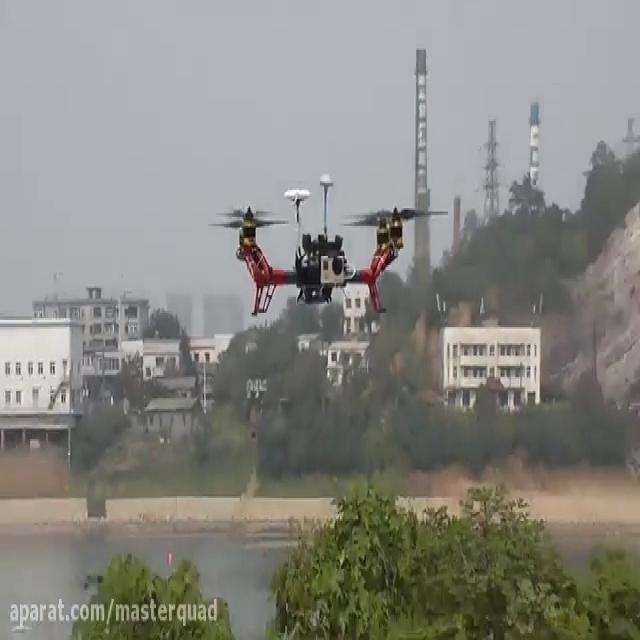drone: (201, 171, 449, 318)
